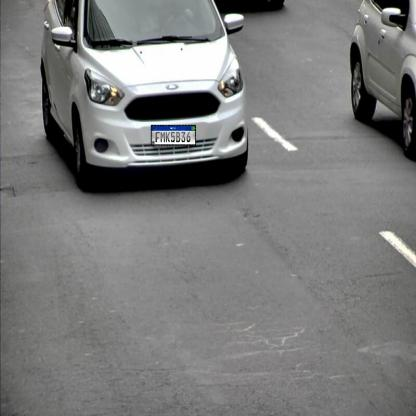PlacaM: (151, 124, 196, 146)
